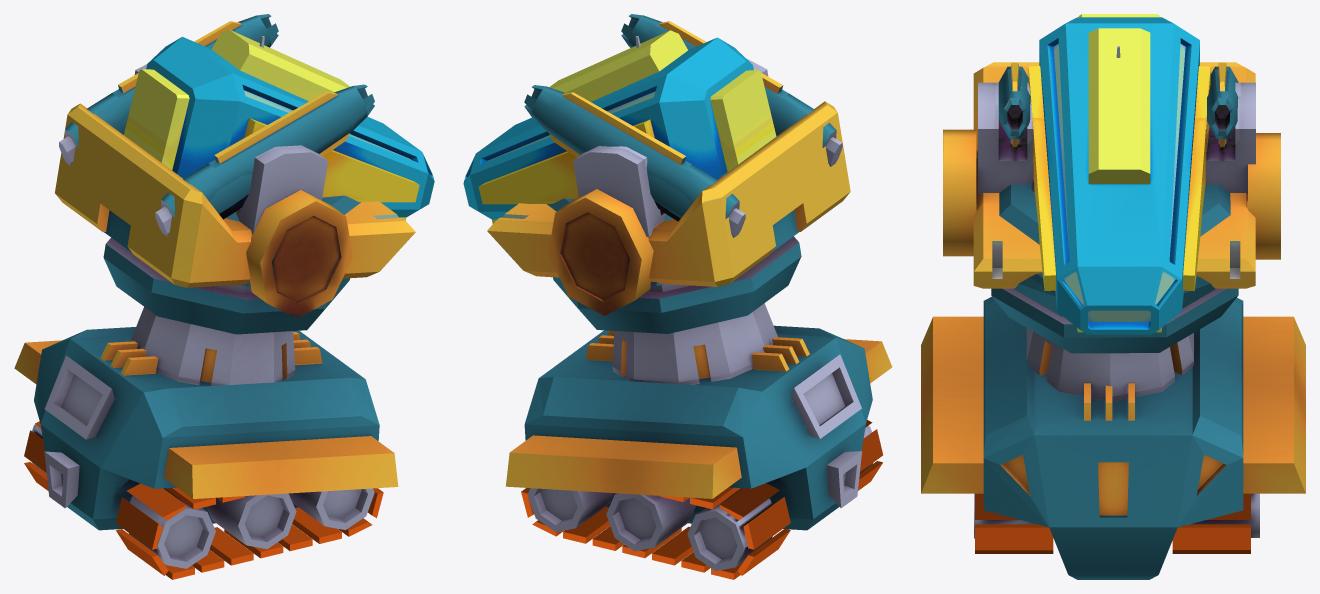
Rendered from Player_moving_upgrade7.obj.
The picture shows the model from 3 angles, left to right: view 1: azimuth 30°, elevation 25°; view 2: azimuth 150°, elevation 25°; view 3: azimuth 270°, elevation 25°; orthographic projection. The views are drawn at different scales.
Parts seen in each view (by area): view 1: Object015, Object014, Box009, Box017, Box016; view 2: Object015, Object014, Box009, Box016, Box017; view 3: Object015, Object014, Box017, Box016, Box009.
Part boxes in pixels (x1,y1,x2,y2): Object015: (14,29,434,530); Object014: (59,14,374,236); Box009: (32,424,374,568); Box017: (116,483,383,579); Box016: (24,421,48,490); Object015: (463,30,892,530); Object014: (524,14,842,237); Box009: (527,425,872,571); Box016: (521,483,790,579); Box017: (858,420,882,490); Object015: (921,14,1305,579); Object014: (998,62,1238,146); Box017: (975,493,1053,553); Box016: (1172,493,1250,553); Box009: (974,493,1259,538).
Size of the model in its own units: 70.38 by 88.9 by 59.78.
5 materials, 3 textured.
